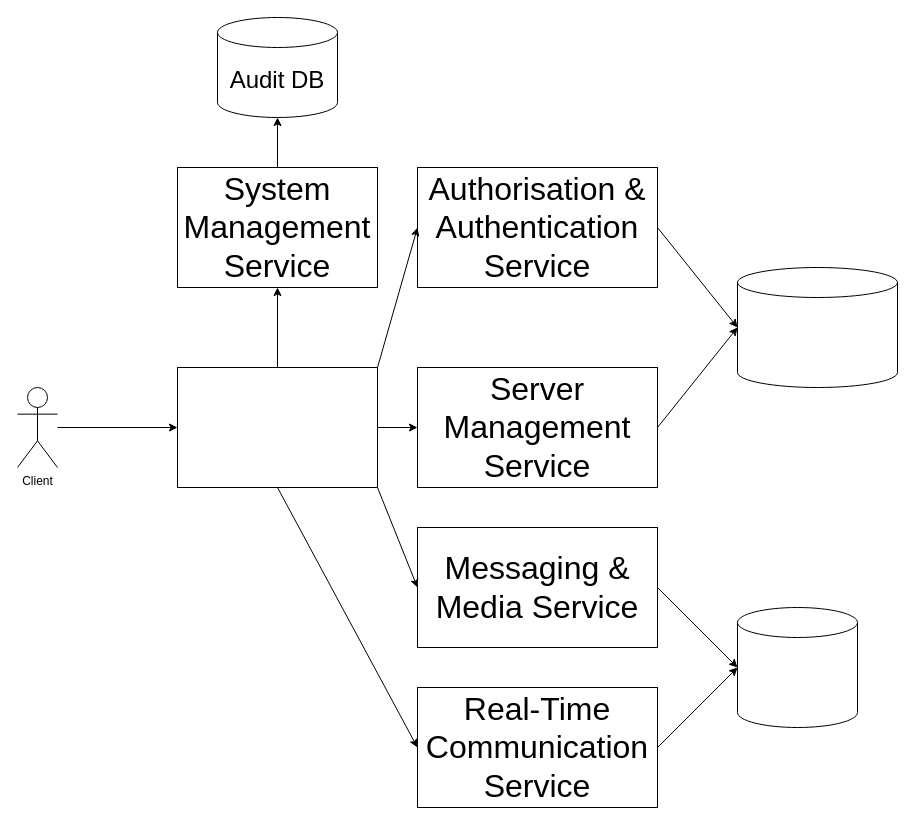
Image size: 915x825. Some labels were removed from this diagram. The centre of each missing label's shape, as x and y in pixels:
"Comms DB" goes at (x=797, y=667).
"Gateway Service" goes at (x=277, y=427).
"Server Details DB" goes at (x=817, y=327).
